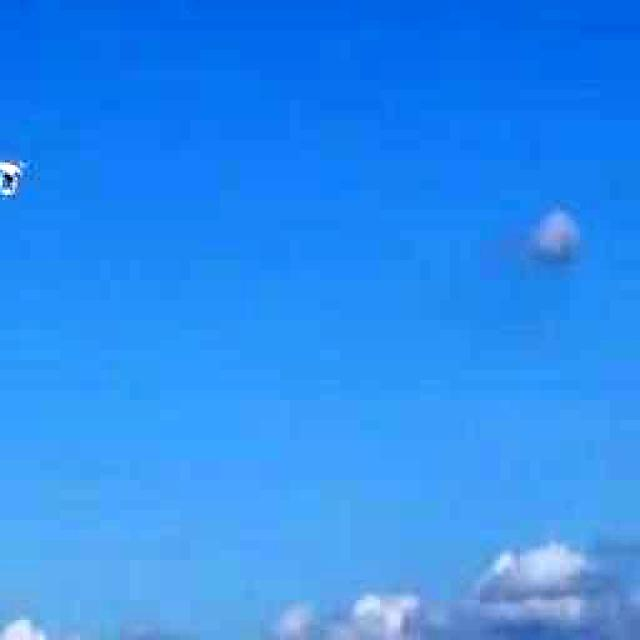bird: (0, 135, 39, 220)
